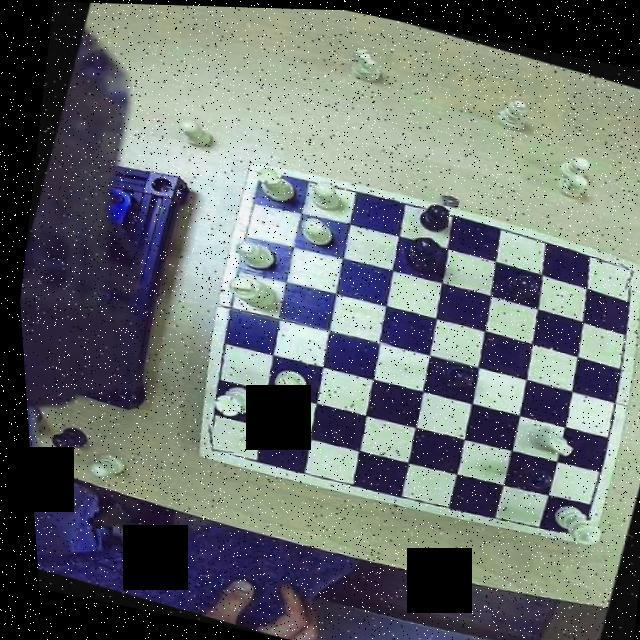chess-table-corners: (190, 419, 233, 461), (550, 504, 589, 542), (240, 160, 278, 198), (600, 255, 638, 288)
